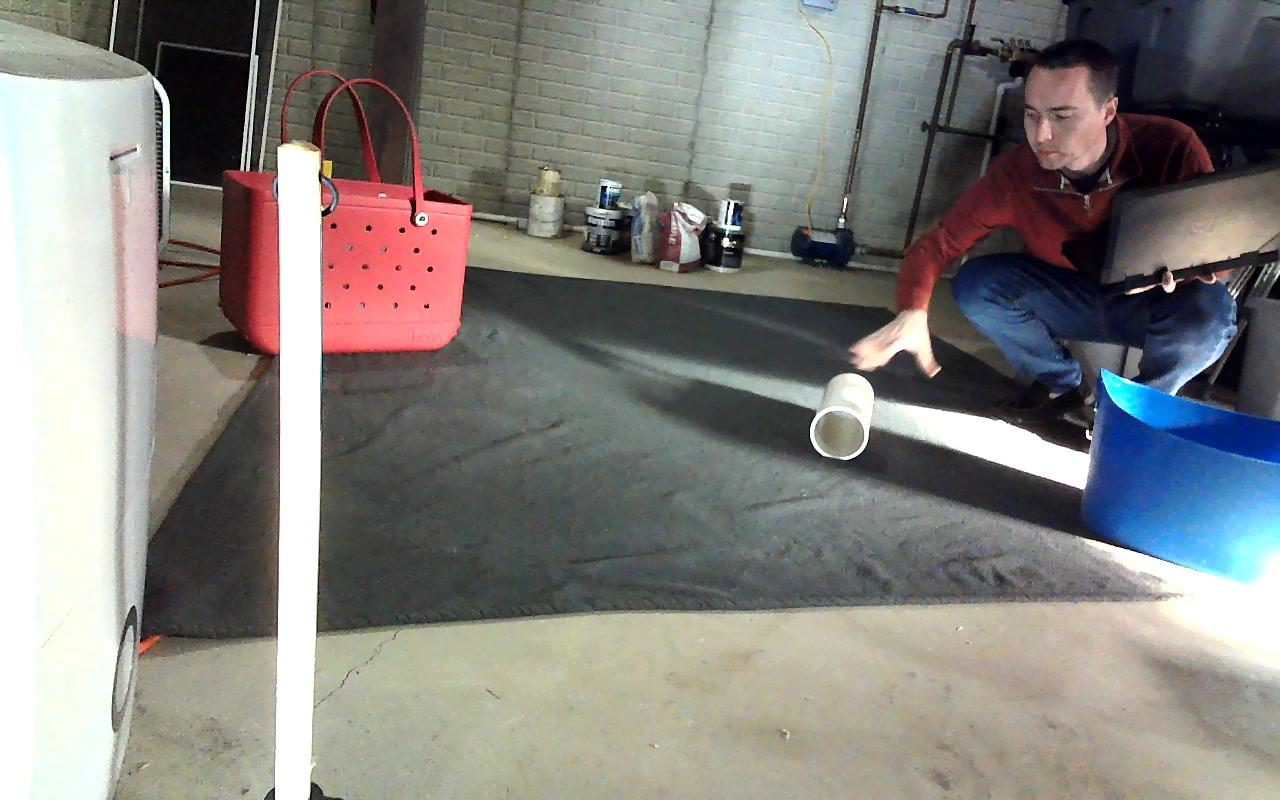coral: (809, 374, 873, 459)
